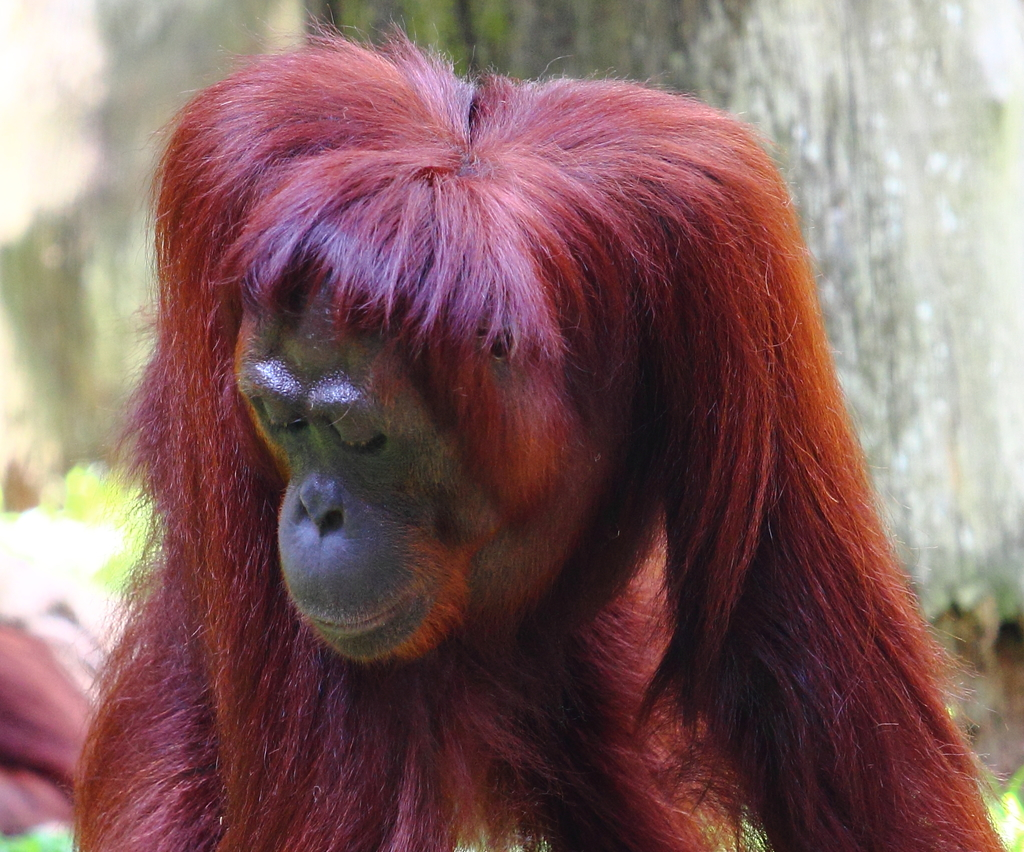Animal: (67, 10, 1014, 851)
